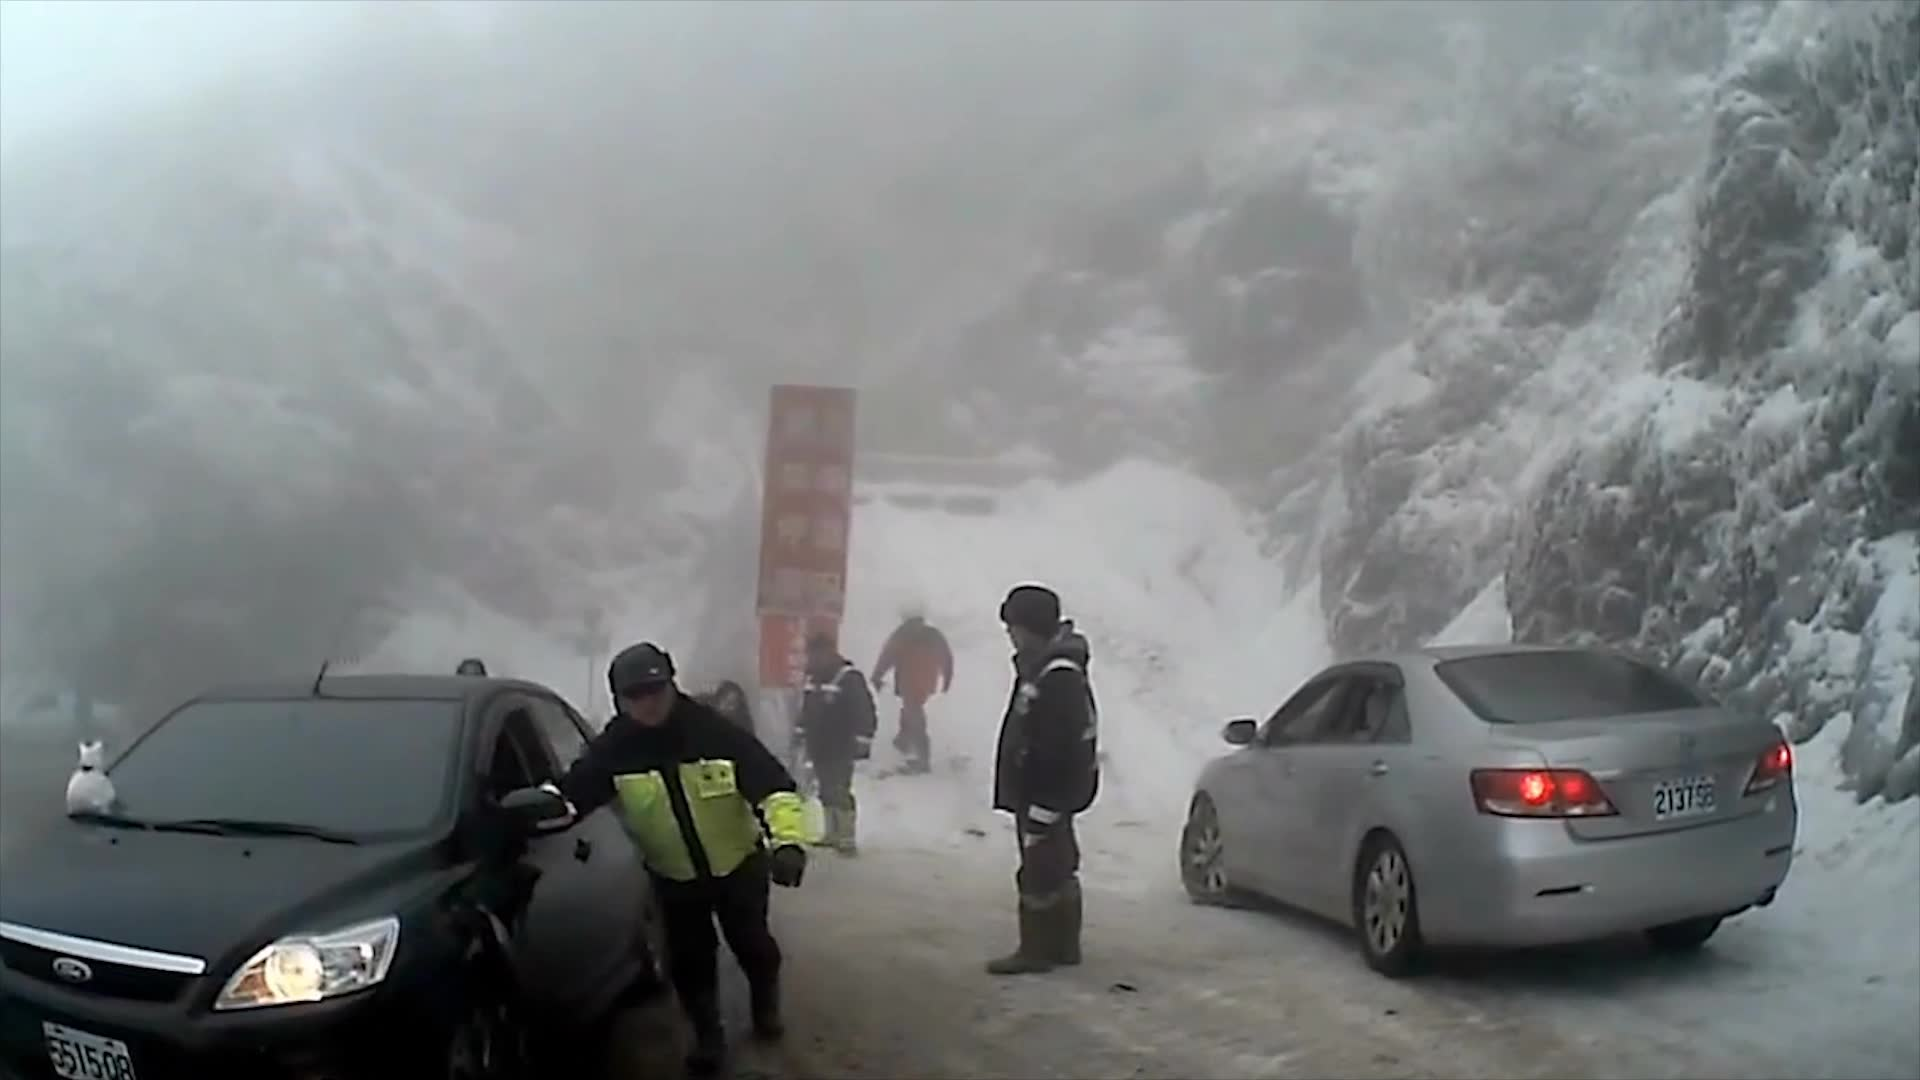pedestrian: (512, 644, 821, 1060), (968, 586, 1100, 973), (671, 677, 784, 895), (791, 632, 874, 859), (869, 595, 958, 770)
vehicle: (0, 672, 709, 1080), (1165, 641, 1794, 981)
